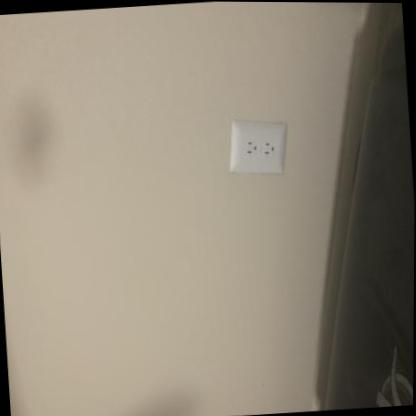OUTLET: (226, 115, 291, 175)
